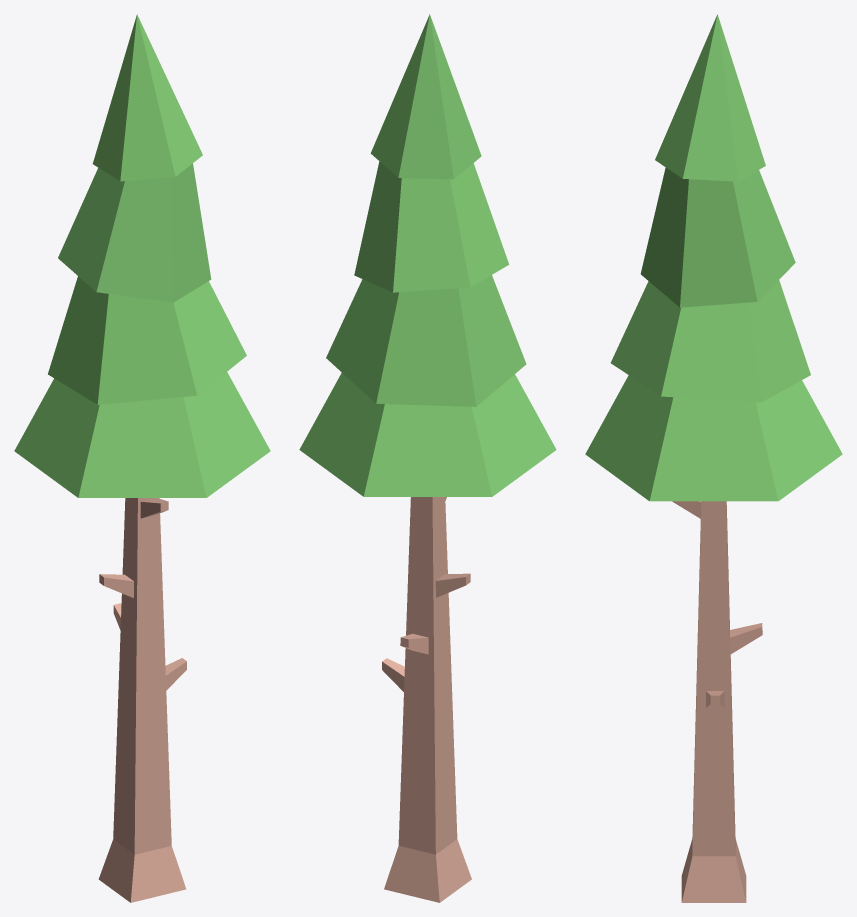
File: tree_pineTallD_detailed.glb
3 views of the same model, side by side, from view 1: azimuth 30°, elevation 25°; view 2: azimuth 150°, elevation 25°; view 3: azimuth 270°, elevation 25° (orthographic).
Visible parts, largest first — view 1: tree_pineTallD_detailed; view 2: tree_pineTallD_detailed; view 3: tree_pineTallD_detailed.
Part boxes in pixels (x1,y1,x2,y2): tree_pineTallD_detailed: [14, 14, 270, 902]; tree_pineTallD_detailed: [299, 14, 556, 902]; tree_pineTallD_detailed: [585, 14, 842, 902].
Bounding box in the file's own units: 0.4804 × 2.08 × 0.5547.
